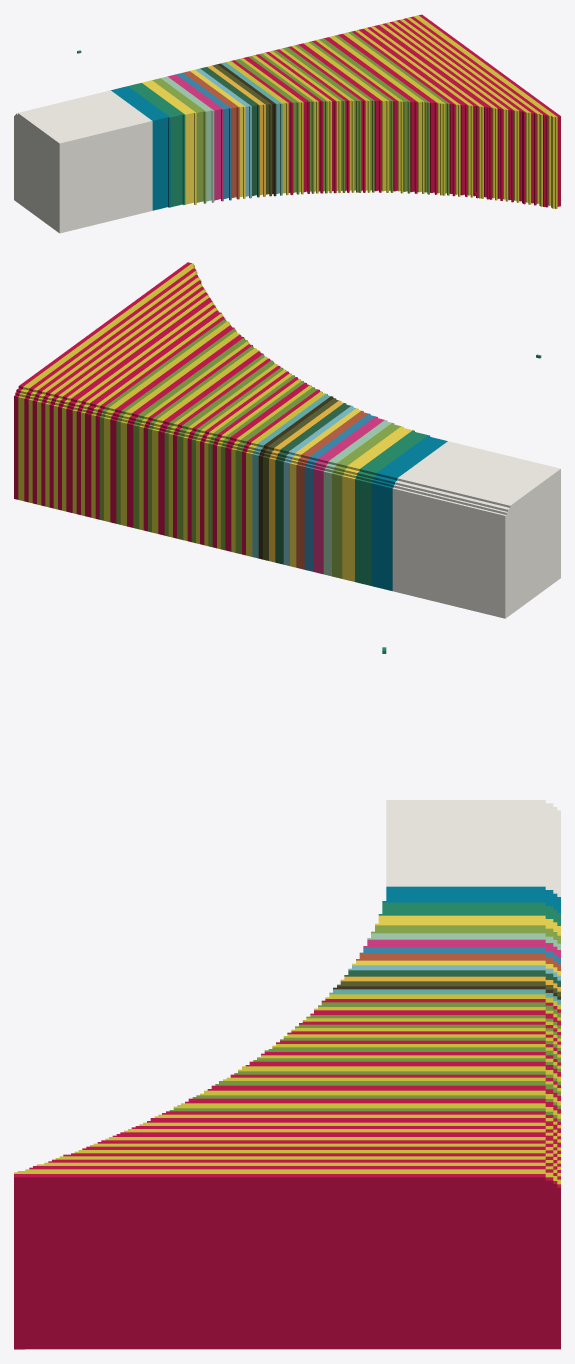
File: base_with_flag_elements-23.obj
3 views of the same model, one above another, from view 1: azimuth 30°, elevation 25°; view 2: azimuth 150°, elevation 25°; view 3: azimuth 270°, elevation 25° (orthographic). The views are drawn at different scales.
Bounding box in the file's own units: 23.5 × 10 × 14.4.
1 material, 1 textured.
